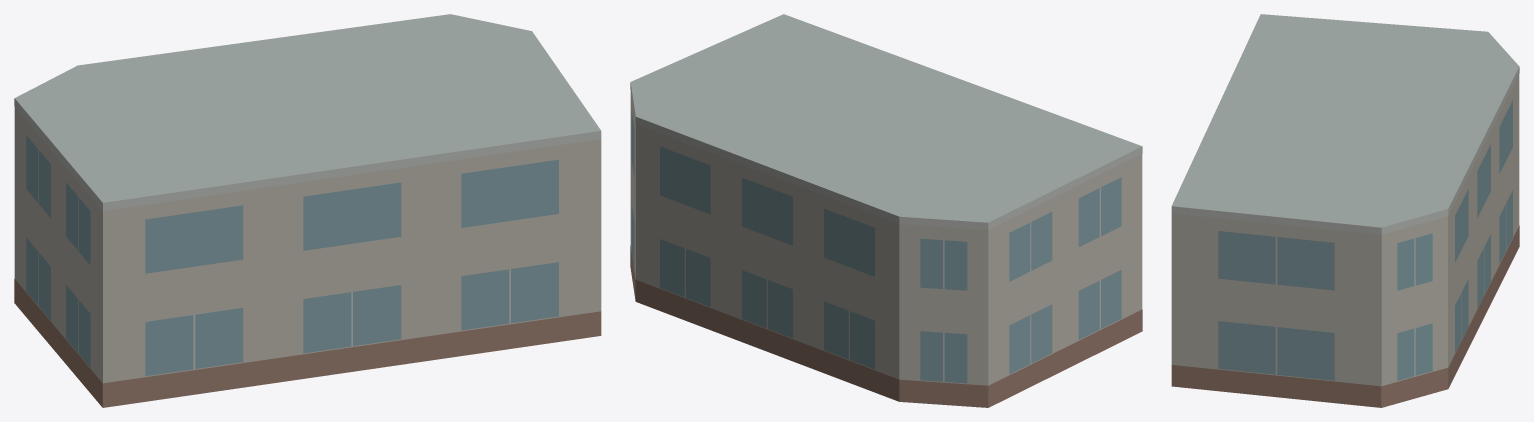
The model's file is survey-upis-33024005.glb.
The picture shows the model from 3 angles, left to right: view 1: azimuth 30°, elevation 25°; view 2: azimuth 150°, elevation 25°; view 3: azimuth 270°, elevation 25°; orthographic projection. The views are drawn at different scales.
Visible parts, largest first — view 1: survey-upis-33024005.tmp; view 2: survey-upis-33024005.tmp; view 3: survey-upis-33024005.tmp.
Boxes of the visible parts, bbox=[...] form: survey-upis-33024005.tmp: bbox=[14, 14, 601, 407]; survey-upis-33024005.tmp: bbox=[630, 14, 1142, 407]; survey-upis-33024005.tmp: bbox=[1171, 14, 1519, 407].
Bounding box in the file's own units: 15.52 × 6.1 × 10.68.
